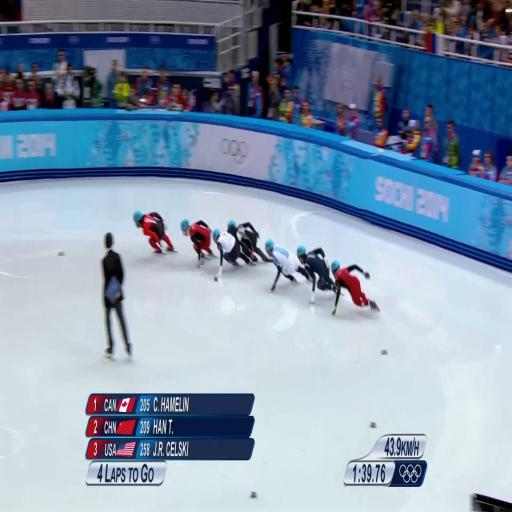Skater: (331, 261, 379, 316), (265, 240, 309, 291), (297, 246, 335, 304), (213, 229, 252, 281), (228, 220, 271, 262), (134, 211, 174, 253), (181, 219, 213, 267)
